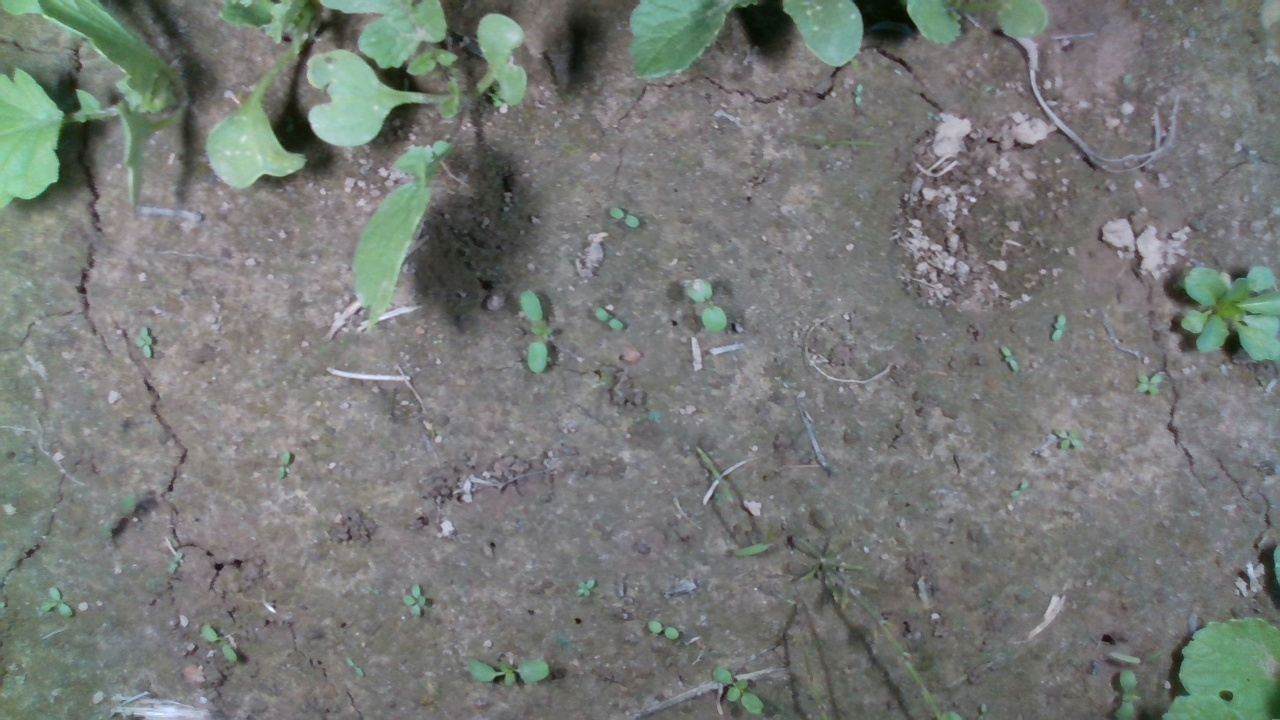weed: (517, 287, 553, 375), (712, 663, 766, 717), (682, 276, 729, 334), (465, 655, 550, 686), (198, 621, 241, 665), (35, 584, 76, 619), (399, 578, 429, 617), (587, 304, 627, 331), (131, 324, 156, 361), (645, 617, 682, 641), (1051, 425, 1082, 453), (606, 206, 642, 229), (996, 344, 1021, 375), (1133, 373, 1163, 396), (1049, 310, 1068, 343), (273, 450, 293, 480), (164, 550, 185, 577), (573, 577, 596, 597), (1008, 479, 1029, 499)
